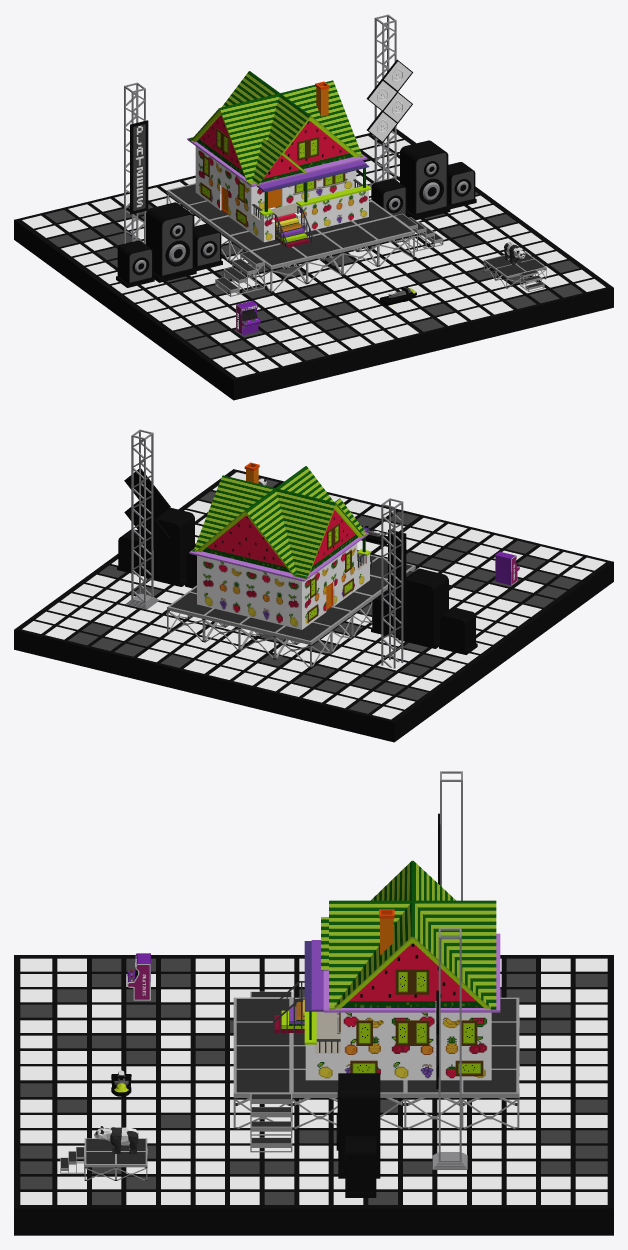
3 views of the same model, one above another, from view 1: azimuth 30°, elevation 25°; view 2: azimuth 150°, elevation 25°; view 3: azimuth 270°, elevation 25° (orthographic). The views are drawn at different scales.
Parts seen in each view (by area): view 1: Cube.008, Cube.1063, OBJRANDOM_ARCADE; view 2: Cube.008, Cube.1063, OBJRANDOM_ARCADE; view 3: Cube.008, Cube.1063, OBJRANDOM_ARCADE, ANIMAL_PANDA.
Boxes of the visible parts, x1,y1,x2,y2 form: Cube.008: [14, 14, 613, 400]; Cube.1063: [187, 71, 371, 248]; OBJRANDOM_ARCADE: [236, 300, 260, 335]; Cube.008: [14, 429, 613, 742]; Cube.1063: [189, 462, 372, 629]; OBJRANDOM_ARCADE: [495, 551, 519, 585]; Cube.008: [14, 771, 613, 1235]; Cube.1063: [272, 860, 500, 1080]; OBJRANDOM_ARCADE: [127, 953, 150, 1000]; ANIMAL_PANDA: [94, 1126, 138, 1154].
Bounding box in the file's own units: 4000 × 1988 × 4000.
Materials: 36 (3 with a texture image).
